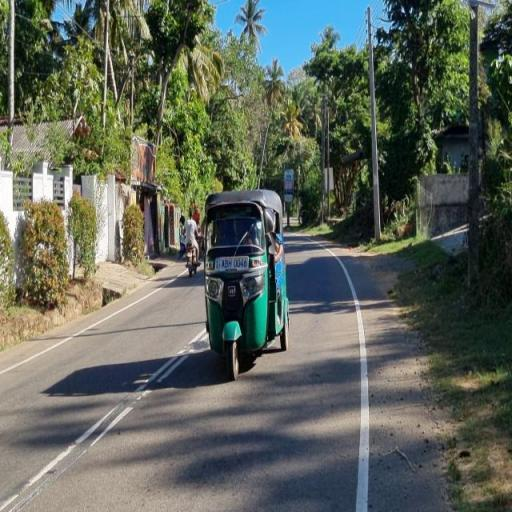double_white_line: (10, 389, 132, 508), (134, 327, 204, 400)
